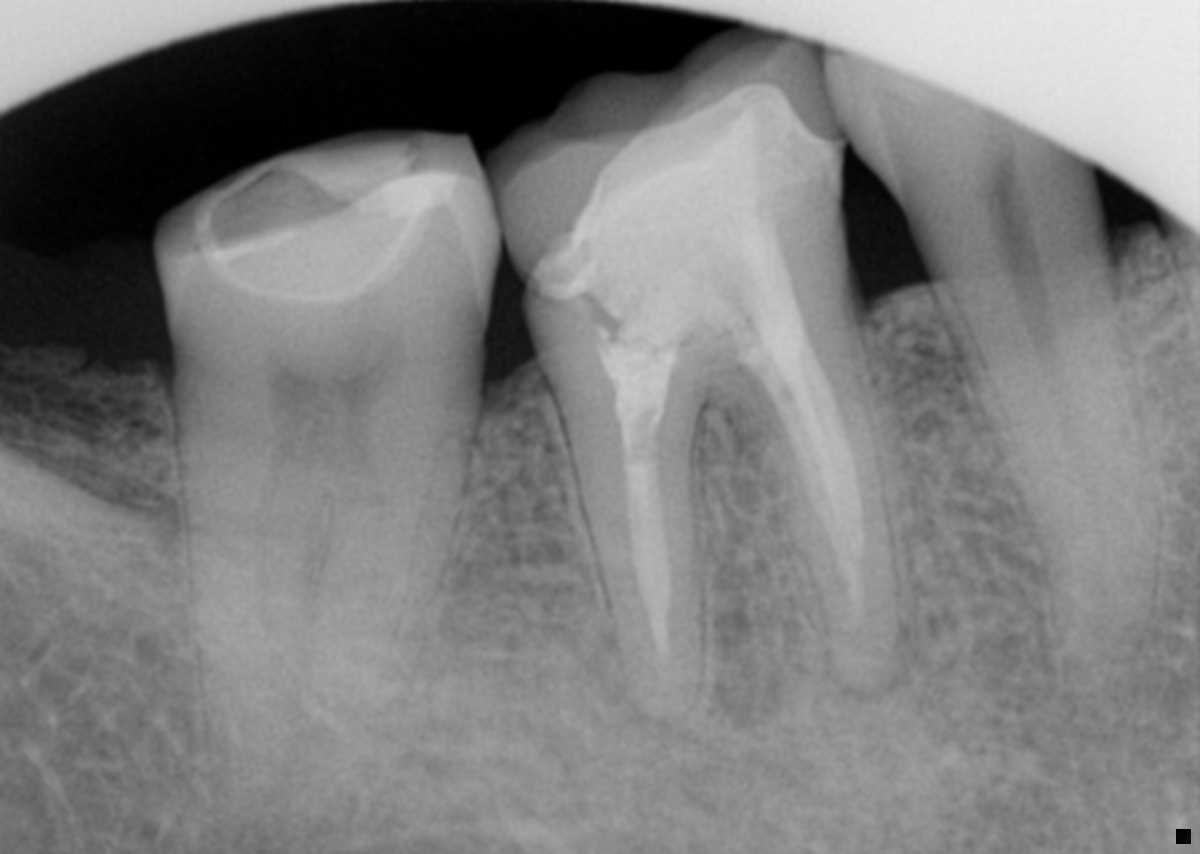Apical Lesion: (583, 649, 661, 746), (827, 642, 922, 704)
Distal Root: (187, 428, 335, 797), (559, 382, 707, 718)
Main Canal: (1012, 257, 1107, 646)
Main Root: (949, 238, 1161, 666)
Mesial Canal: (346, 429, 385, 683)
Mesial Root: (743, 306, 902, 690), (309, 405, 478, 724)
Root Canal Filling: (722, 249, 864, 624), (599, 323, 675, 670)
